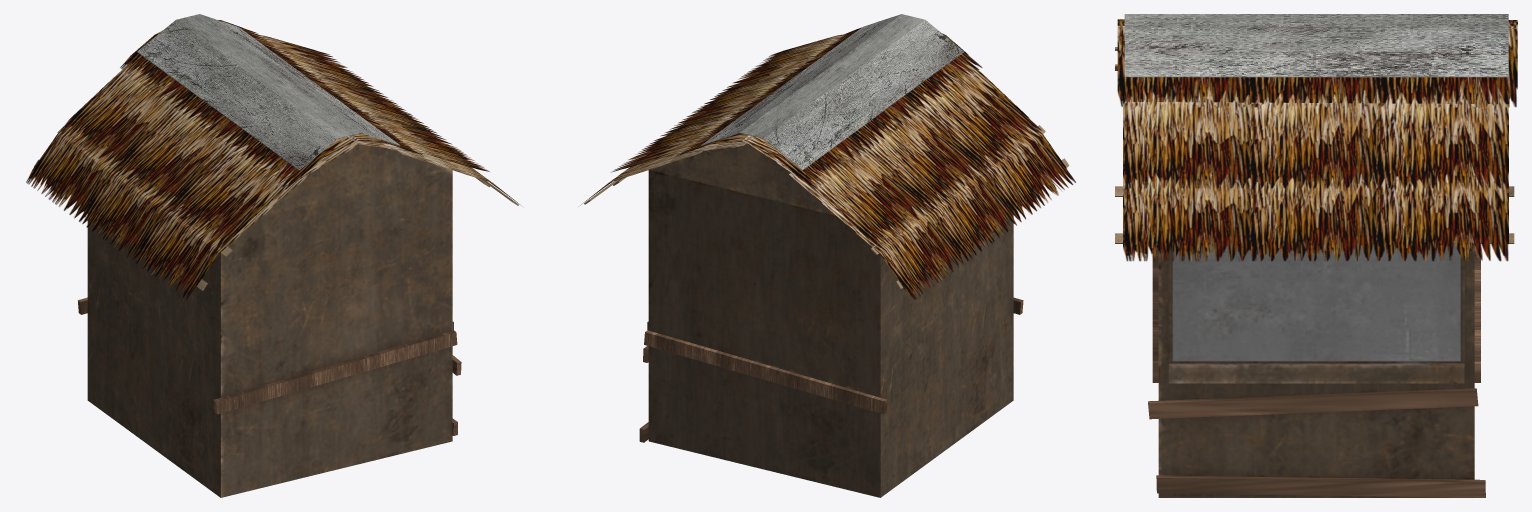
Rendered from small-building.glb.
3 renders of one model, left to right at view 1: azimuth 30°, elevation 25°; view 2: azimuth 150°, elevation 25°; view 3: azimuth 270°, elevation 25°, orthographic. The views are drawn at different scales.
Visible parts, largest first — view 1: main-col, roof.003, roof.006, roof.002, roof.001, roof.004, supports-col, roof.005, roof; view 2: main-col, roof.003, roof.006, roof.002, roof.001, roof.004, supports-col, roof.005, roof; view 3: main-col, roof.001, roof, roof.006, supports-col, roof.005.
Boxes of the visible parts, x1,y1,x2,y2 form: main-col: [87, 81, 453, 497]; roof.003: [60, 63, 358, 248]; roof.006: [137, 14, 400, 170]; roof.002: [26, 126, 310, 299]; roof.001: [251, 33, 489, 171]; roof.004: [120, 30, 357, 189]; supports-col: [78, 297, 461, 435]; roof.005: [218, 20, 422, 154]; roof: [397, 150, 522, 206]; main-col: [647, 70, 1013, 497]; roof.003: [751, 59, 1041, 247]; roof.006: [701, 14, 964, 170]; roof.002: [789, 122, 1075, 299]; roof.001: [611, 34, 845, 172]; roof.004: [742, 33, 982, 189]; supports-col: [639, 297, 1023, 442]; roof.005: [675, 27, 861, 156]; roof: [580, 151, 702, 205]; main-col: [1158, 244, 1474, 497]; roof.001: [1123, 78, 1509, 188]; roof: [1123, 101, 1508, 261]; roof.006: [1124, 14, 1508, 77]; supports-col: [1148, 244, 1485, 497]; roof.005: [1117, 26, 1517, 107].
Size of the model in its own units: 4.1 by 3.76 by 3.36.
Materials: 5 (5 with a texture image).
